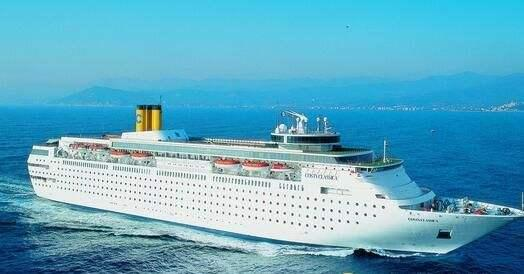youlun: (25, 100, 524, 254)
